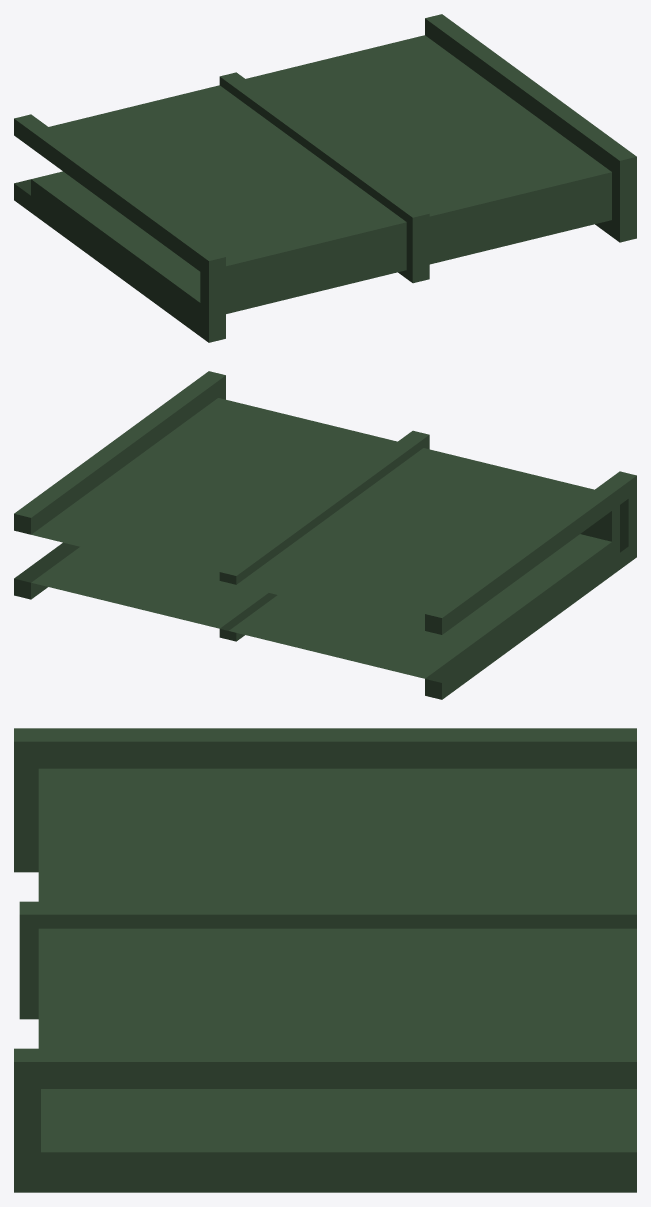
The model's file is Pipe.fbx.
3 renders of one model, top to bottom at view 1: azimuth 30°, elevation 25°; view 2: azimuth 150°, elevation 25°; view 3: azimuth 270°, elevation 25°, orthographic. The views are drawn at different scales.
Parts seen in each view (by area): view 1: pipe; view 2: pipe; view 3: pipe.
Part boxes in pixels (x1=…): pipe: x1=14, y1=14, x2=636, y2=342; pipe: x1=14, y1=371, x2=636, y2=699; pipe: x1=14, y1=728, x2=636, y2=1192.
Bounding box in the file's own units: 396 × 72.2 × 312.
